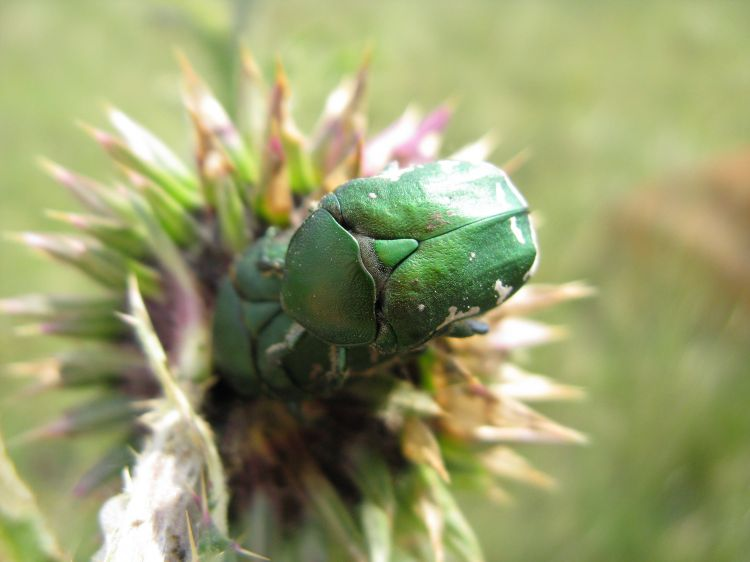Protaetia_ungarica: (270, 130, 550, 393)
